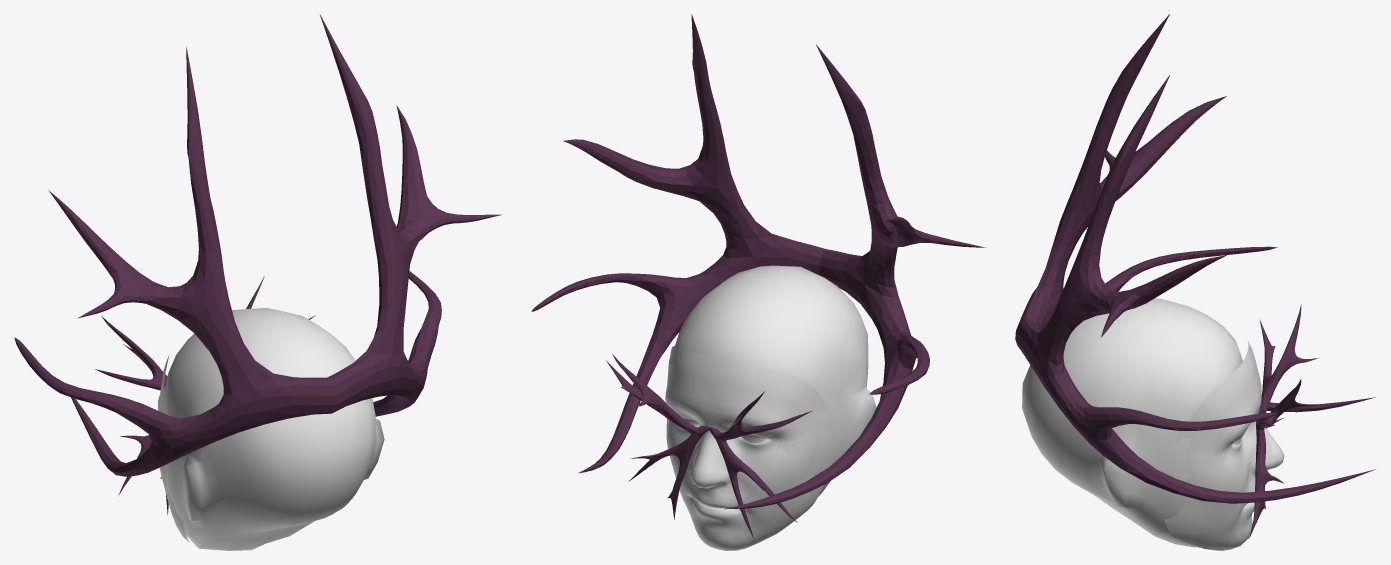
File: faceMesh.glb
The picture shows the model from 3 angles, left to right: view 1: azimuth 30°, elevation 25°; view 2: azimuth 150°, elevation 25°; view 3: azimuth 270°, elevation 25°; orthographic projection. The views are drawn at different scales.
Visible parts, largest first — view 1: model_crown_03, headOccluder, faceMesh; view 2: model_crown_03, faceMesh, headOccluder; view 3: model_crown_03, headOccluder, faceMesh.
Part boxes in pixels (x1,y1,x2,y2): model_crown_03: [14, 14, 501, 515]; headOccluder: [164, 308, 384, 550]; faceMesh: [157, 356, 189, 541]; model_crown_03: [531, 14, 986, 539]; faceMesh: [665, 346, 827, 550]; headOccluder: [675, 265, 876, 496]; model_crown_03: [1015, 14, 1375, 538]; headOccluder: [1022, 298, 1242, 547]; faceMesh: [1164, 340, 1284, 550].
Size of the model in its own units: 0.3515 by 0.4214 by 0.2759.
